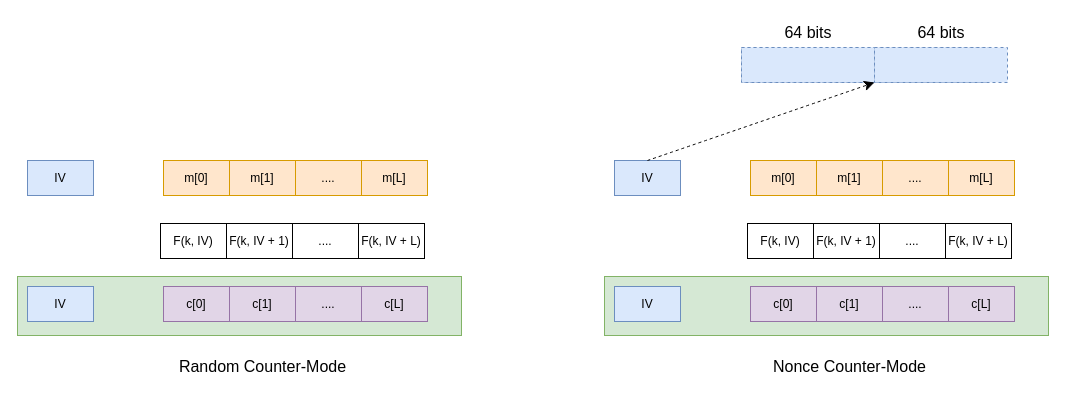
Image size: 1066x398. Some labels were removed from this diagram. The centre of each missing label's shape, as x and y in pixels:
"counter" belongs at point (941, 64).
"nonce" belongs at point (807, 64).
